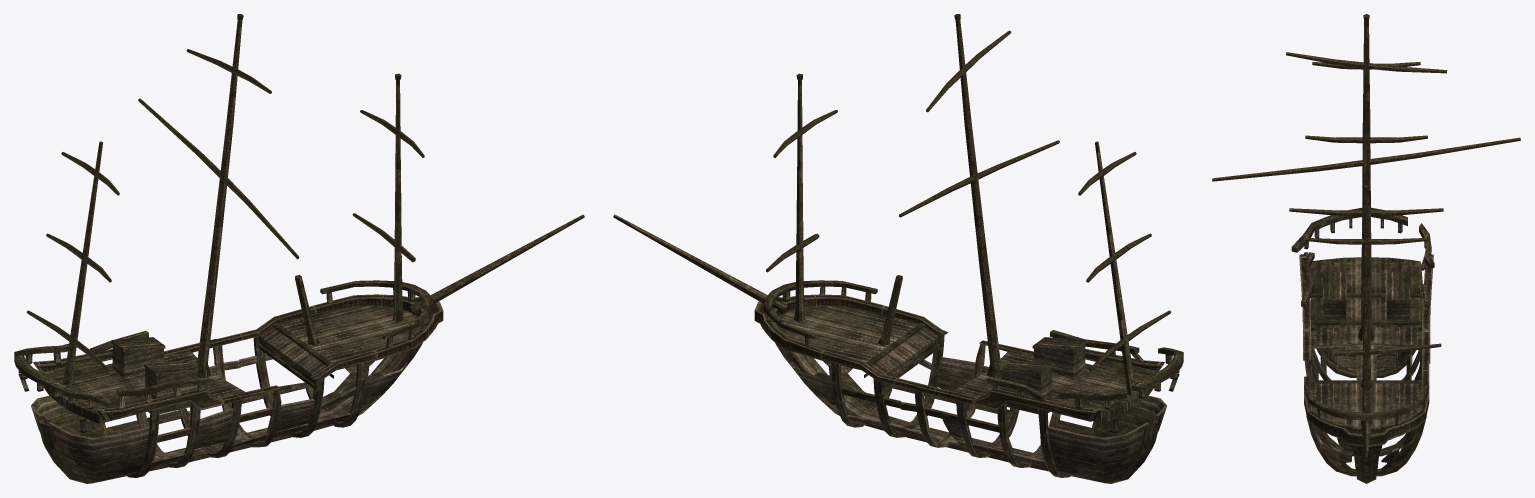
Rendered from ships_brokenbody00.fbx.
3 views of the same model, side by side, from view 1: azimuth 30°, elevation 25°; view 2: azimuth 150°, elevation 25°; view 3: azimuth 270°, elevation 25° (orthographic). The views are drawn at different scales.
Visible parts, largest first — view 1: fort_ship03_02, fort_ship01_02, fort_ship02_02; view 2: fort_ship03_02, fort_ship01_02, fort_ship02_02; view 3: fort_ship01_02, fort_ship03_02, fort_ship02_02.
Boxes of the visible parts, bbox=[...] form: fort_ship03_02: bbox=[31, 306, 437, 483]; fort_ship01_02: bbox=[14, 14, 584, 407]; fort_ship02_02: bbox=[18, 287, 443, 433]; fort_ship03_02: bbox=[760, 306, 1166, 483]; fort_ship01_02: bbox=[613, 14, 1183, 401]; fort_ship02_02: bbox=[754, 286, 1179, 433]; fort_ship01_02: bbox=[1212, 14, 1520, 456]; fort_ship03_02: bbox=[1304, 257, 1426, 483]; fort_ship02_02: bbox=[1299, 218, 1433, 446].
Size of the model in its own units: 47.72 by 35.3 by 23.39.
